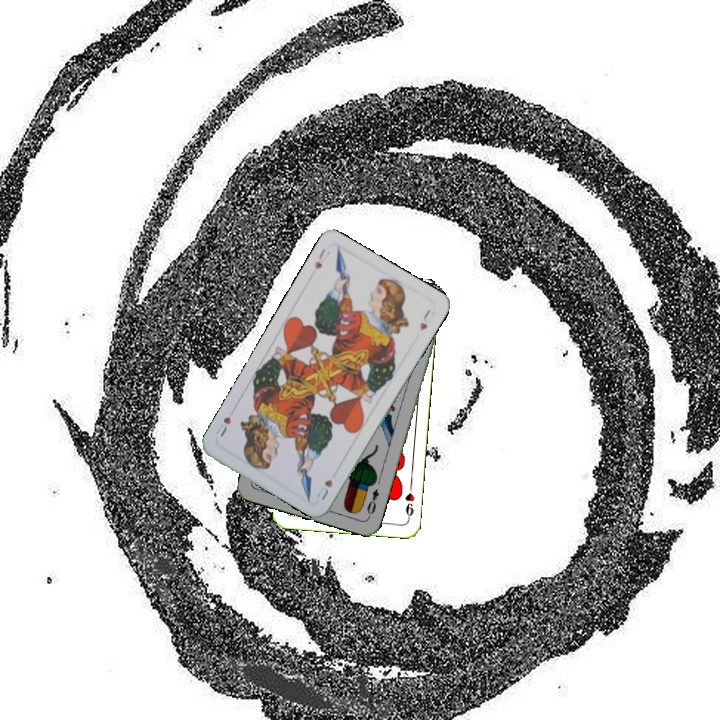EO: (363, 485, 382, 520)
H9: (401, 482, 417, 522)
HU: (313, 475, 335, 503), (310, 245, 328, 272)
